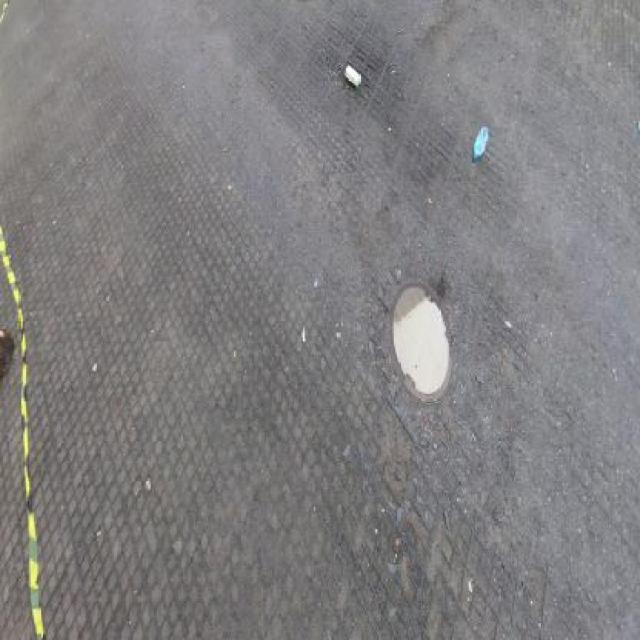Garbage: (473, 127, 489, 162), (344, 64, 361, 88)
